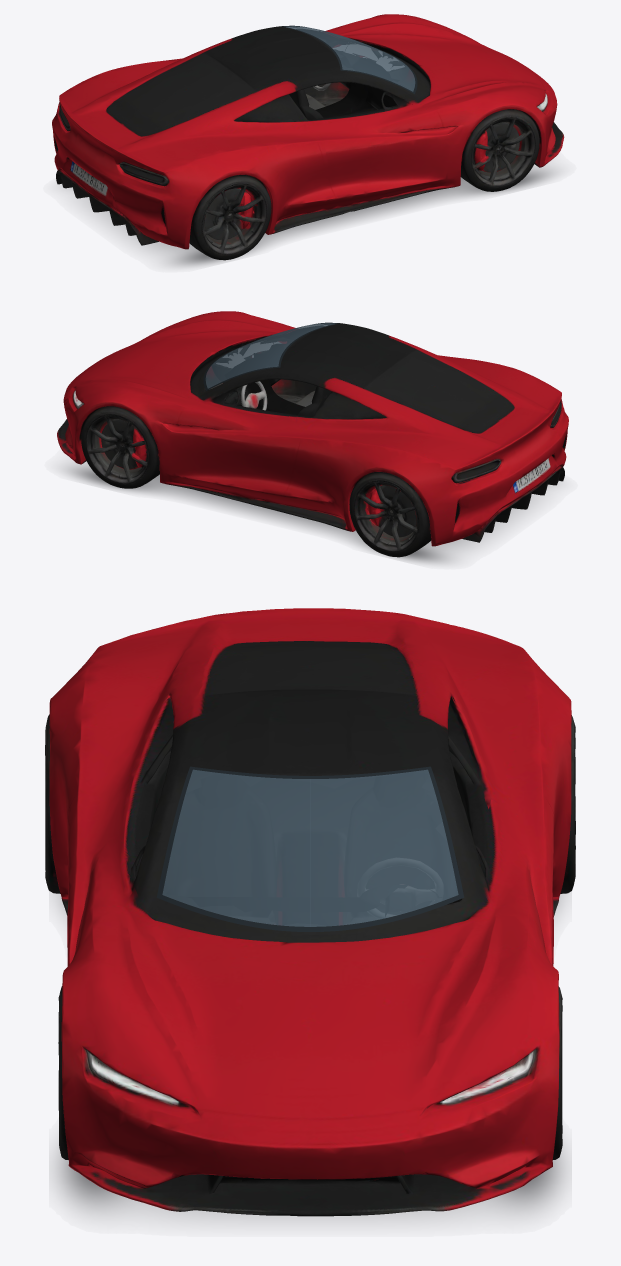
The model's file is roadster-v1-model.glb.
The picture shows the model from 3 angles, top to bottom: view 1: azimuth 30°, elevation 25°; view 2: azimuth 150°, elevation 25°; view 3: azimuth 270°, elevation 25°; orthographic projection. The views are drawn at different scales.
Parts seen in each view (by area): view 1: tripo_node_66e69843-7ea6-4ede-aa26-b6ba2a6d8b9e; view 2: tripo_node_66e69843-7ea6-4ede-aa26-b6ba2a6d8b9e; view 3: tripo_node_66e69843-7ea6-4ede-aa26-b6ba2a6d8b9e.
Part boxes in pixels (x1,y1,x2,y2): tripo_node_66e69843-7ea6-4ede-aa26-b6ba2a6d8b9e: [52, 14, 564, 266]; tripo_node_66e69843-7ea6-4ede-aa26-b6ba2a6d8b9e: [57, 311, 568, 563]; tripo_node_66e69843-7ea6-4ede-aa26-b6ba2a6d8b9e: [45, 608, 575, 1216].
Bounding box in the file's own units: 1.02 × 0.2862 × 0.5073.
4 materials, 2 textured.
